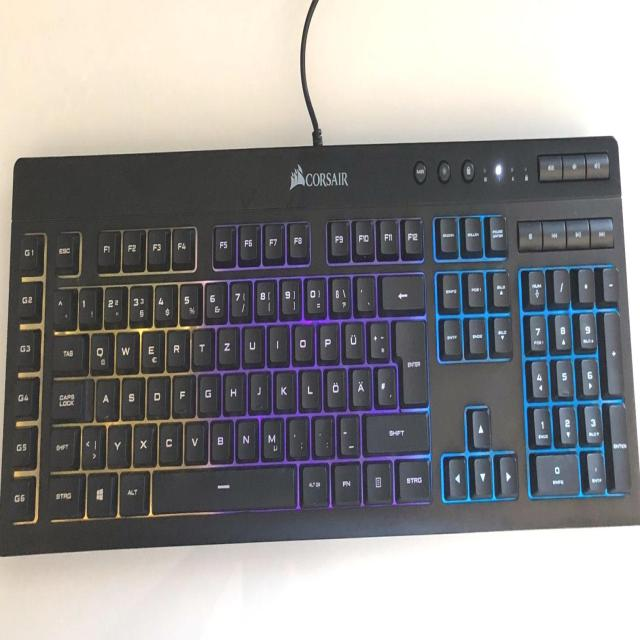0: (303, 274, 326, 315)
1: (78, 284, 101, 327)
2: (103, 282, 124, 324)
3: (127, 282, 152, 324)
4: (153, 281, 175, 322)
5: (178, 280, 199, 322)
6: (203, 278, 226, 321)
7: (229, 277, 250, 317)
8: (253, 276, 275, 317)
9: (278, 274, 300, 315)
a: (95, 375, 115, 419)
accent: (354, 272, 374, 311)
ae: (350, 364, 370, 406)
alt-left: (117, 468, 148, 514)
altgr-right: (300, 462, 328, 505)
b: (209, 417, 231, 460)
c: (158, 418, 181, 463)
caret: (52, 286, 72, 327)
comma: (287, 414, 308, 457)
d: (146, 372, 169, 416)
del: (379, 271, 424, 311)
e: (140, 327, 163, 370)
enter: (392, 314, 427, 405)
f: (171, 372, 192, 414)
g: (197, 370, 218, 412)
h: (222, 369, 244, 412)
hash: (375, 362, 395, 404)
i: (267, 321, 287, 361)
j: (248, 367, 268, 410)
k: (273, 367, 294, 409)
keyboard: (0, 122, 640, 558)
l: (299, 365, 319, 407)
less: (81, 421, 104, 467)
m: (260, 415, 283, 458)
minus: (337, 412, 358, 454)
n: (235, 416, 257, 459)
o: (292, 321, 312, 361)
oe: (324, 365, 345, 407)
p: (318, 320, 338, 360)
plus: (368, 317, 388, 359)
point: (312, 413, 333, 456)
q: (88, 329, 111, 371)
r: (165, 326, 188, 368)
s: (120, 374, 142, 417)
shift-left: (47, 423, 77, 468)
shift-lock: (48, 376, 92, 420)
shift-right: (363, 410, 428, 453)
space: (150, 463, 295, 511)
ss: (329, 273, 349, 313)
strg-left: (45, 471, 82, 518)
strg-right: (395, 457, 432, 500)
t: (192, 324, 212, 365)
tab: (51, 331, 84, 373)
u: (242, 322, 262, 364)
ue: (343, 318, 363, 359)
v: (184, 417, 206, 461)
w: (114, 328, 138, 371)
x: (132, 420, 154, 464)
y: (106, 421, 129, 465)
z: (217, 324, 238, 365)
